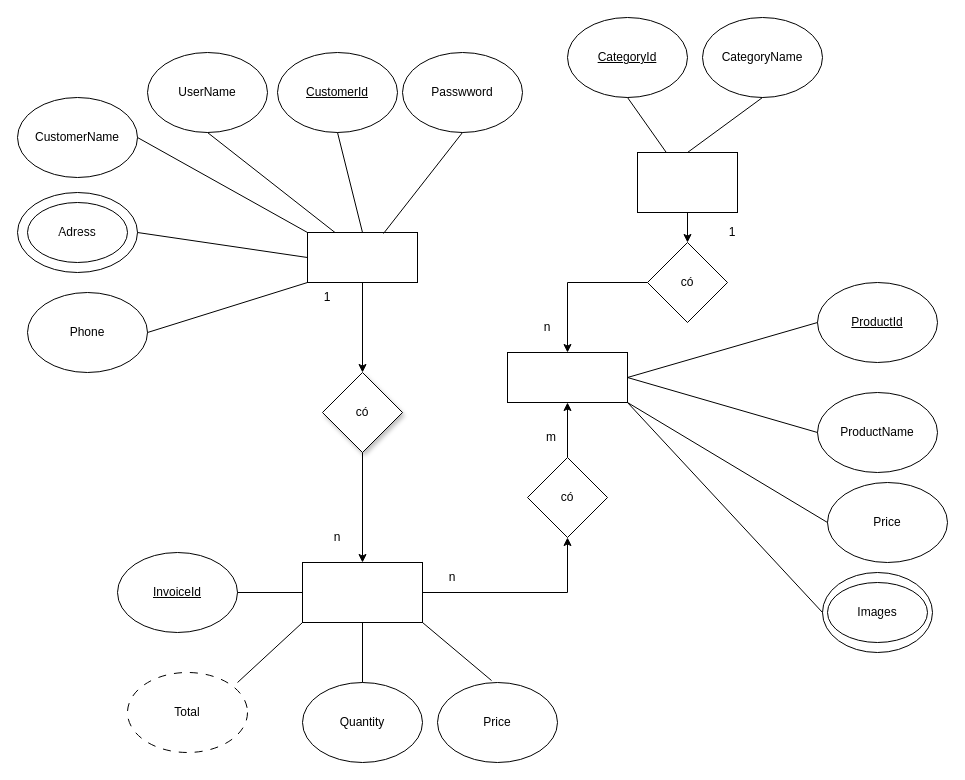
Image size: 965x780. Some labels were removed from this diagram. The centre of each missing label's shape, as x and y in pixels:
"CATEGORIES" belongs at [687,182].
"CUSTOMER" belongs at [362,257].
"INVOICE" belongs at [362,592].
"PRODUCTS" belongs at [567,377].
